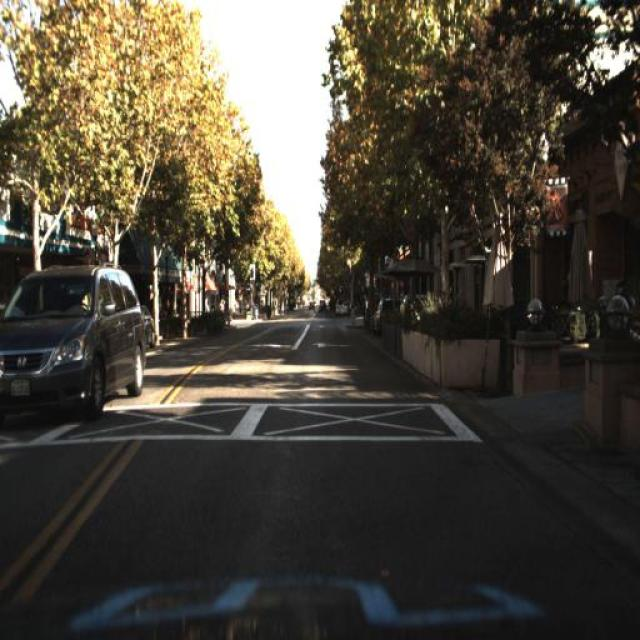car: (0, 264, 149, 436)
